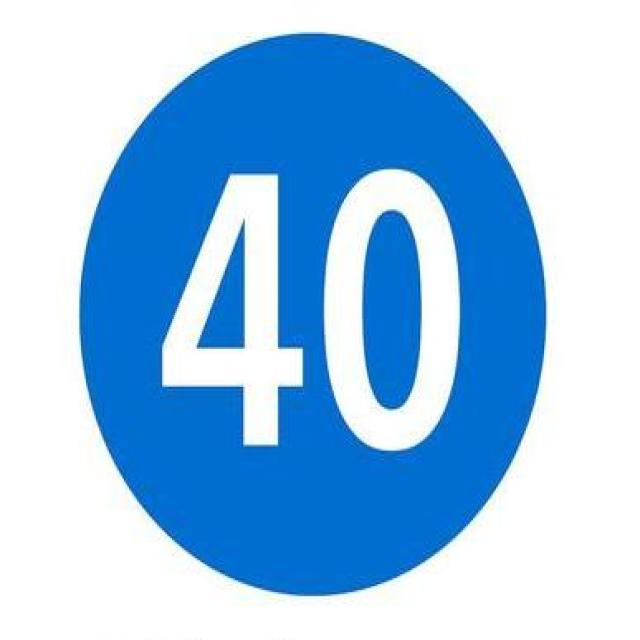speed limit 40: (77, 32, 547, 593)
